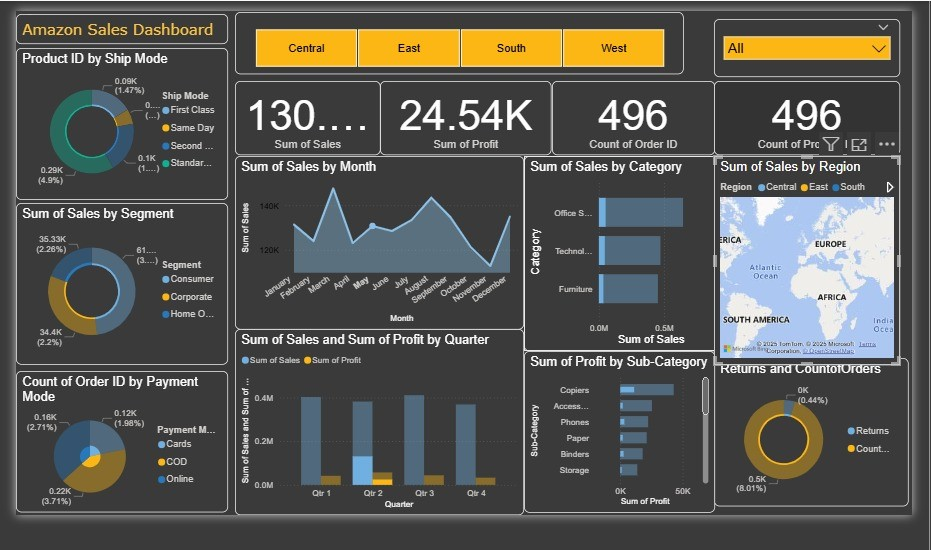

The dashboard page shown, as its layout file describes it:
{"tool":"powerbi","page":{"name":"Page 1","canvas":[1280,720],"ordinal":0},"visuals":[{"type":"barChart","fields":{"Y":["Sum(Storesalesofamazon.Sales)"],"Category":["Storesalesofamazon.Category"]},"box":[725.3,206.5,279.4,279.4],"z":0},{"type":"donutChart","fields":{"Y":["Sum(Storesalesofamazon.Sales)"],"Category":["Storesalesofamazon.Segment"]},"box":[0,273.9,302.8,231.2],"z":1000},{"type":"actionButton","box":[0,0,100,40],"z":2000},{"type":"donutChart","title":"Product ID by Ship Mode","fields":{"Y":["CountNonNull(Storesalesofamazon.Product ID)"],"Series":["Storesalesofamazon.Ship Mode"]},"box":[0,52.3,302.8,217.5],"z":3000},{"type":"donutChart","fields":{"Y":["Sum(Storesalesofamazon.Returns)","CountNonNull(Storesalesofamazon.Order ID)"]},"box":[997.8,495.5,278,212],"z":4000},{"type":"pieChart","fields":{"Series":["Storesalesofamazon.Payment Mode"],"Y":["CountNonNull(Storesalesofamazon.Order ID)"]},"box":[0,514.8,302.8,202.3],"z":5000},{"type":"barChart","fields":{"Y":["Sum(Storesalesofamazon.Profit)"],"Category":["Storesalesofamazon.Sub-Category"]},"box":[725.3,485.8,272.5,231.2],"z":6000},{"type":"areaChart","fields":{"Category":["Storesalesofamazon.Order Date.Variation.Date Hierarchy.Month"],"Y":["Sum(Storesalesofamazon.Sales)"]},"box":[312.4,206.5,412.9,247.7],"z":7000},{"type":"map","fields":{"Size":["Sum(Storesalesofamazon.Sales)"],"Series":["Storesalesofamazon.Region"]},"box":[997.8,206.5,265.6,298.7],"z":8000},{"type":"lineClusteredColumnComboChart","fields":{"Y":["Sum(Storesalesofamazon.Sales)","Sum(Storesalesofamazon.Profit)"],"Category":["Storesalesofamazon.Order Date.Variation.Date Hierarchy.Quarter"]},"box":[312.4,454.2,412.9,265.6],"z":9000},{"type":"textbox","box":[0,4.1,302.8,42.7],"z":10000},{"type":"textbox","box":[425.3,20.6,12.4,19.3],"z":11000},{"type":"textbox","box":[312.4,100.5,12.4,12.4],"z":12000},{"type":"textbox","box":[513.4,20.6,84,38.5],"z":13000},{"type":"textbox","box":[685.4,20.6,134.9,61.9],"z":14000},{"type":"textbox","box":[587.7,20.6,78.5,38.5],"z":15000},{"type":"card","fields":{"Values":["Sum(Storesalesofamazon.Profit)"]},"box":[520.3,100.5,245,106],"z":17000},{"type":"card","fields":{"Values":["CountNonNull(Storesalesofamazon.Order ID)"]},"box":[765.2,100.5,232.6,106],"z":18000},{"type":"card","fields":{"Values":["CountNonNull(Storesalesofamazon.Product ID)"]},"box":[997.8,100.5,265.6,106],"z":19000},{"type":"card","fields":{"Values":["Sum(Storesalesofamazon.Sales)"]},"box":[312.4,100.5,207.8,106],"z":20000},{"type":"slicer","fields":{"Values":["Storesalesofamazon.State"]},"box":[997.8,11,265.6,82.6],"z":22000},{"type":"slicer","fields":{"Values":["Storesalesofamazon.Region"]},"box":[312.4,1.4,641.4,89.5],"z":23000}]}

Visuals, with their boxes in screenshot pixels (x1, y1, x2, y2):
barChart - Sum(Storesalesofamazon.Sales) x Storesalesofamazon.Category: [521, 155, 715, 348]
donutChart - Sum(Storesalesofamazon.Sales) x Storesalesofamazon.Segment: [19, 202, 229, 362]
actionButton: [19, 12, 89, 40]
"Product ID by Ship Mode" donutChart: [19, 48, 229, 199]
donutChart - Sum(Storesalesofamazon.Returns) x CountNonNull(Storesalesofamazon.Order ID): [710, 355, 902, 502]
pieChart - Storesalesofamazon.Payment Mode x CountNonNull(Storesalesofamazon.Order ID): [19, 368, 229, 508]
barChart - Sum(Storesalesofamazon.Profit) x Storesalesofamazon.Sub-Category: [521, 348, 710, 508]
areaChart - Storesalesofamazon.Order Date.Variation.Date Hierarchy.Month x Sum(Storesalesofamazon.Sales): [236, 155, 521, 326]
map - Sum(Storesalesofamazon.Sales) x Storesalesofamazon.Region: [710, 155, 893, 362]
lineClusteredColumnComboChart - Sum(Storesalesofamazon.Sales) x Sum(Storesalesofamazon.Profit): [236, 326, 521, 510]
textbox: [19, 15, 229, 44]
textbox: [314, 26, 322, 40]
textbox: [236, 82, 244, 90]
textbox: [375, 26, 433, 53]
textbox: [494, 26, 587, 69]
textbox: [426, 26, 480, 53]
card - Sum(Storesalesofamazon.Profit): [379, 82, 549, 155]
card - CountNonNull(Storesalesofamazon.Order ID): [549, 82, 710, 155]
card - CountNonNull(Storesalesofamazon.Product ID): [710, 82, 893, 155]
card - Sum(Storesalesofamazon.Sales): [236, 82, 379, 155]
slicer - Storesalesofamazon.State: [710, 20, 893, 77]
slicer - Storesalesofamazon.Region: [236, 13, 679, 75]
